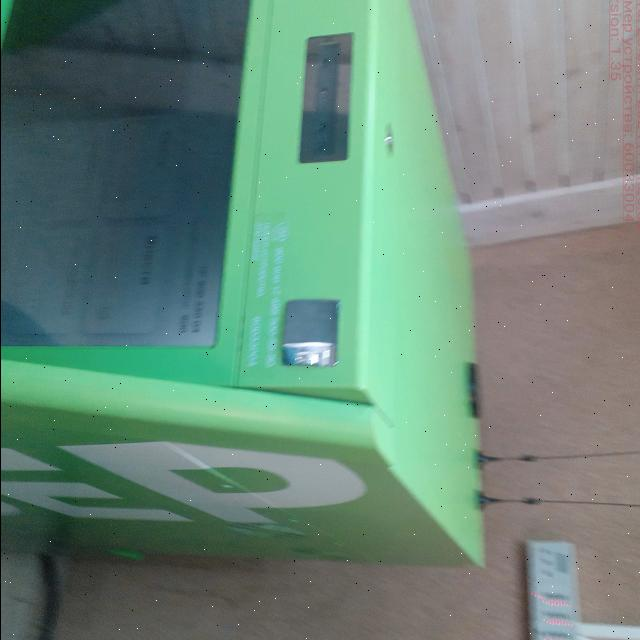bank: (1, 0, 484, 555)
